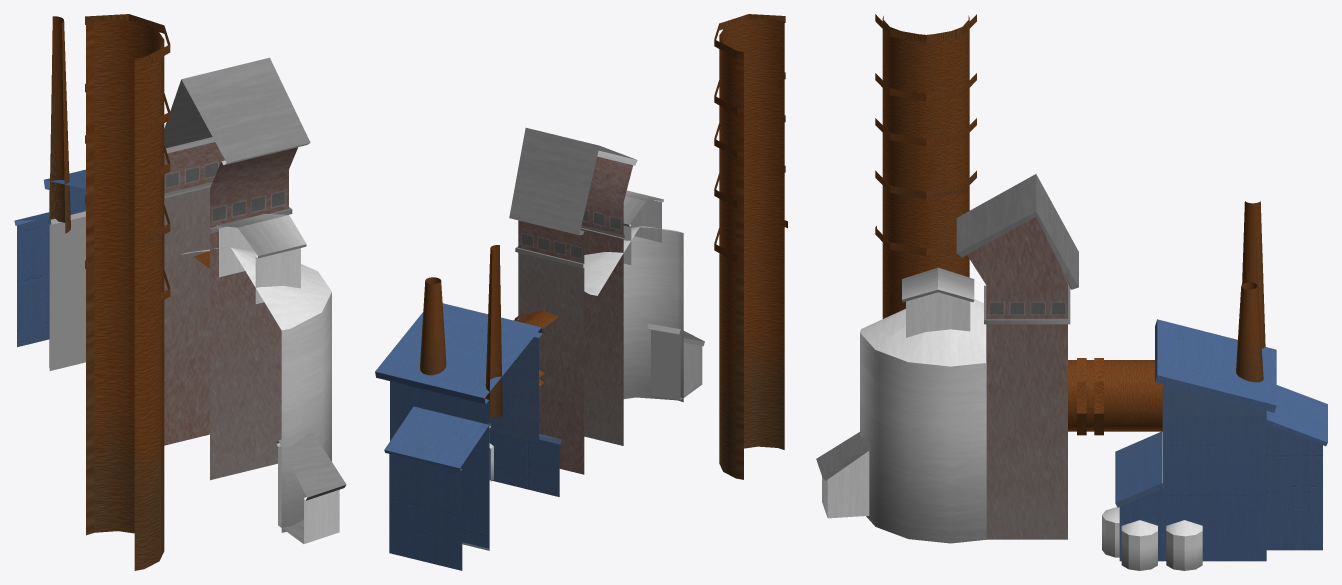
The model's file is Refinery.fbx.
3 views of the same model, side by side, from view 1: azimuth 30°, elevation 25°; view 2: azimuth 150°, elevation 25°; view 3: azimuth 270°, elevation 25° (orthographic). The views are drawn at different scales.
Visible parts, largest first — view 1: polySurface4, polySurface11, polySurface7, polySurface6, polySurface2, polySurface3, polySurface17, polySurface5, polySurface16; view 2: polySurface4, polySurface11, polySurface5, polySurface6, polySurface7, polySurface3, polySurface17, polySurface21, polySurface2, polySurface16; view 3: polySurface4, polySurface5, polySurface7, polySurface11, polySurface6, polySurface8, polySurface2, polySurface3, polySurface21, polySurface17, polySurface18, polySurface22 (+8 smaller).
Boxes of the visible parts, x1,y1,x2,y2 form: polySurface4: (164, 57, 310, 480); polySurface11: (86, 19, 164, 570); polySurface7: (180, 247, 331, 532); polySurface6: (14, 211, 85, 370); polySurface2: (216, 213, 306, 304); polySurface3: (276, 431, 346, 543); polySurface17: (49, 16, 70, 233); polySurface5: (43, 169, 85, 367); polySurface16: (85, 14, 170, 66); polySurface4: (509, 127, 637, 474); polySurface11: (719, 18, 784, 479); polySurface5: (375, 303, 561, 548); polySurface6: (384, 406, 490, 570); polySurface7: (583, 226, 683, 402); polySurface3: (647, 324, 704, 400); polySurface17: (485, 245, 502, 426); polySurface21: (420, 277, 446, 375); polySurface2: (623, 190, 663, 264); polySurface16: (714, 14, 785, 58); polySurface4: (956, 174, 1078, 539); polySurface5: (1115, 319, 1276, 561); polySurface7: (860, 299, 986, 543); polySurface11: (882, 15, 969, 318); polySurface6: (1266, 385, 1327, 550); polySurface8: (1068, 360, 1162, 431); polySurface2: (902, 267, 974, 337); polySurface3: (816, 432, 870, 518); polySurface21: (1236, 282, 1263, 382); polySurface17: (1242, 201, 1265, 348); polySurface18: (1121, 520, 1157, 570); polySurface22: (1166, 520, 1202, 570).
Size of the model in its own units: 10.81 by 18.98 by 19.58.
